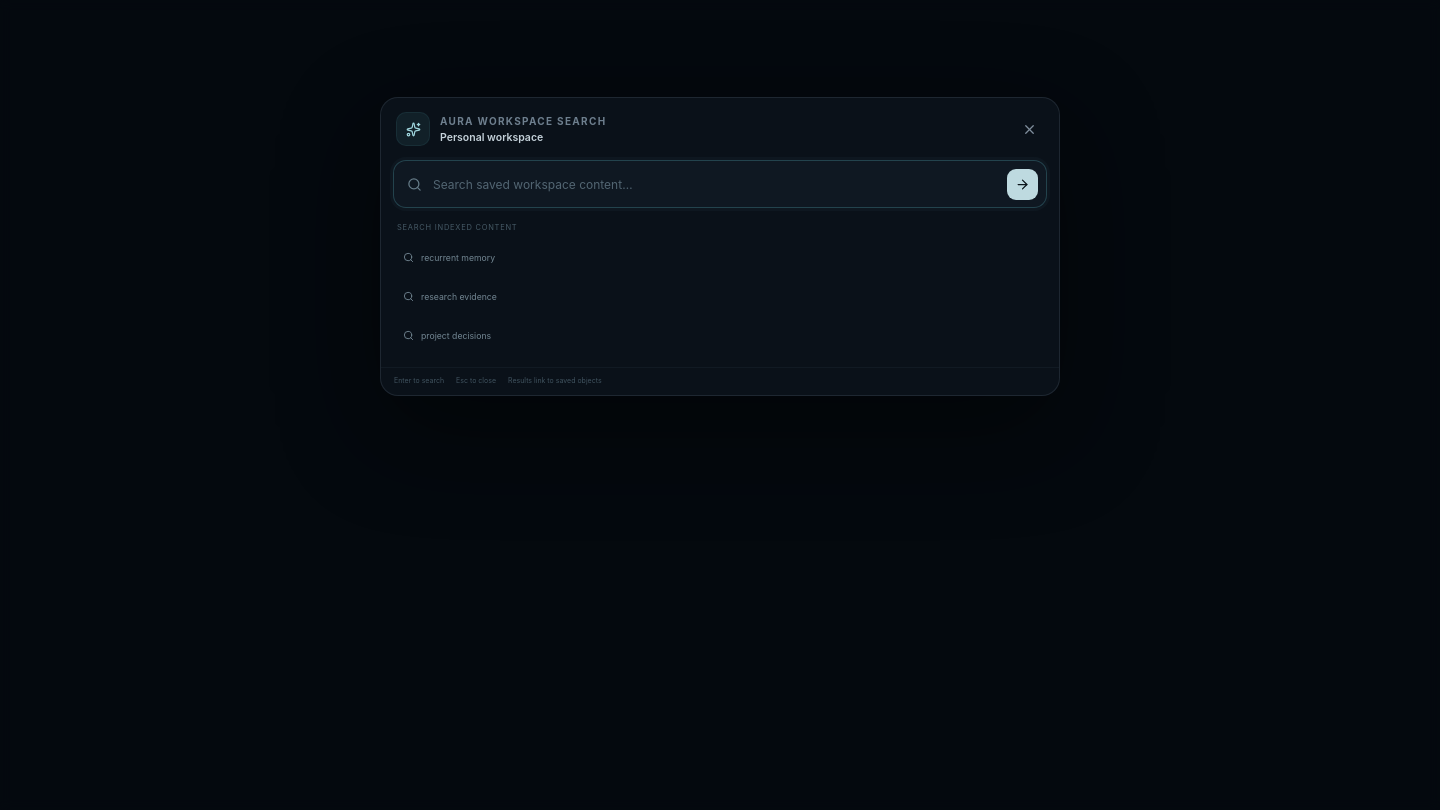
it: AuraCommandPalette › loads another backend page for the submitted query
The image size is (1440, 810).
In the field labelled "Search saved workspace content": coordinates (714, 184) [431, 176, 998, 193], type "evidence"
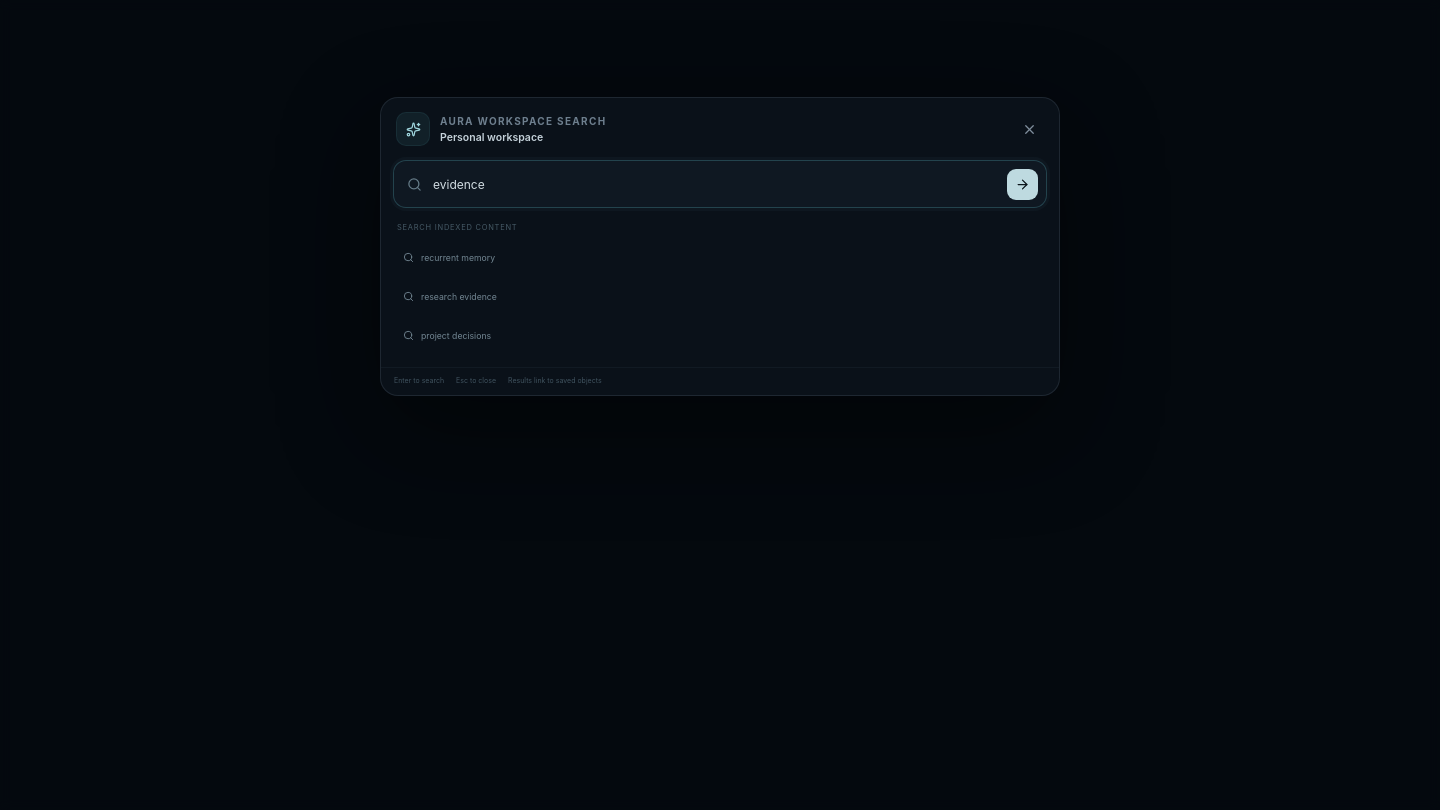
Click the button named "Search": coordinates (1022, 184) [1007, 169, 1038, 200]
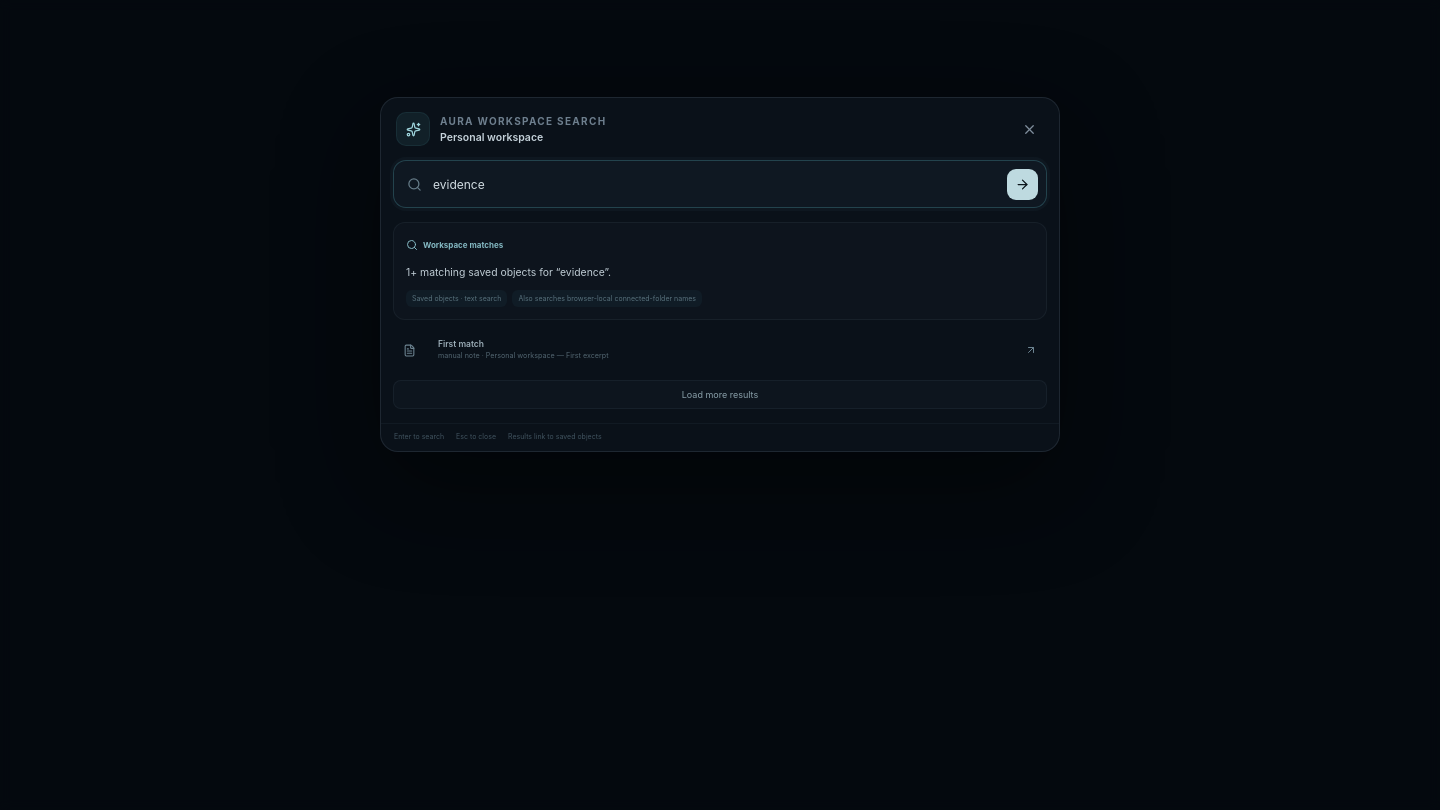
Expected: the text "First match" is shown, [438, 339, 484, 349]
Click the button "Load more results": coordinates (720, 395) [393, 380, 1047, 409]
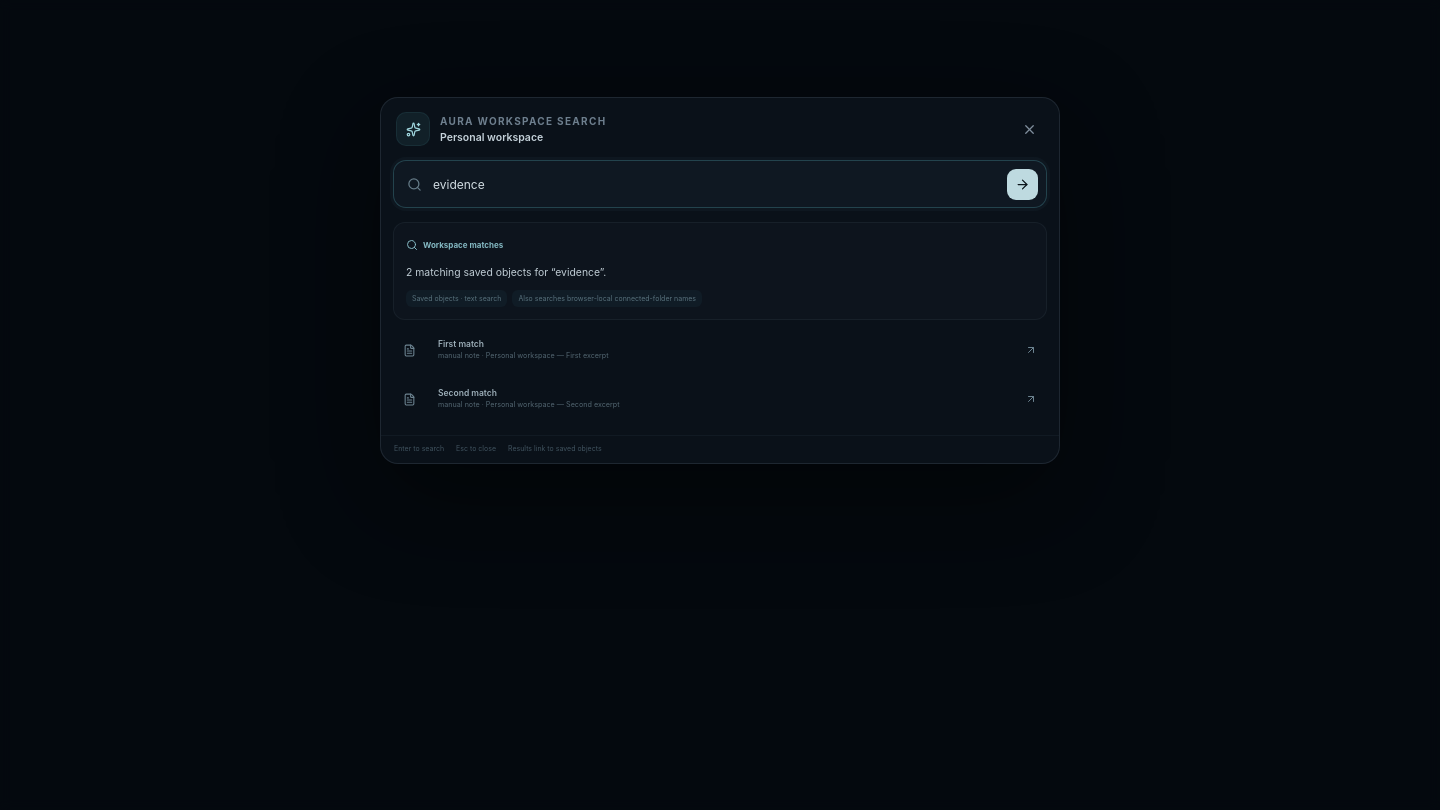
Expected: the text "Second match" is shown, [438, 388, 497, 398]
